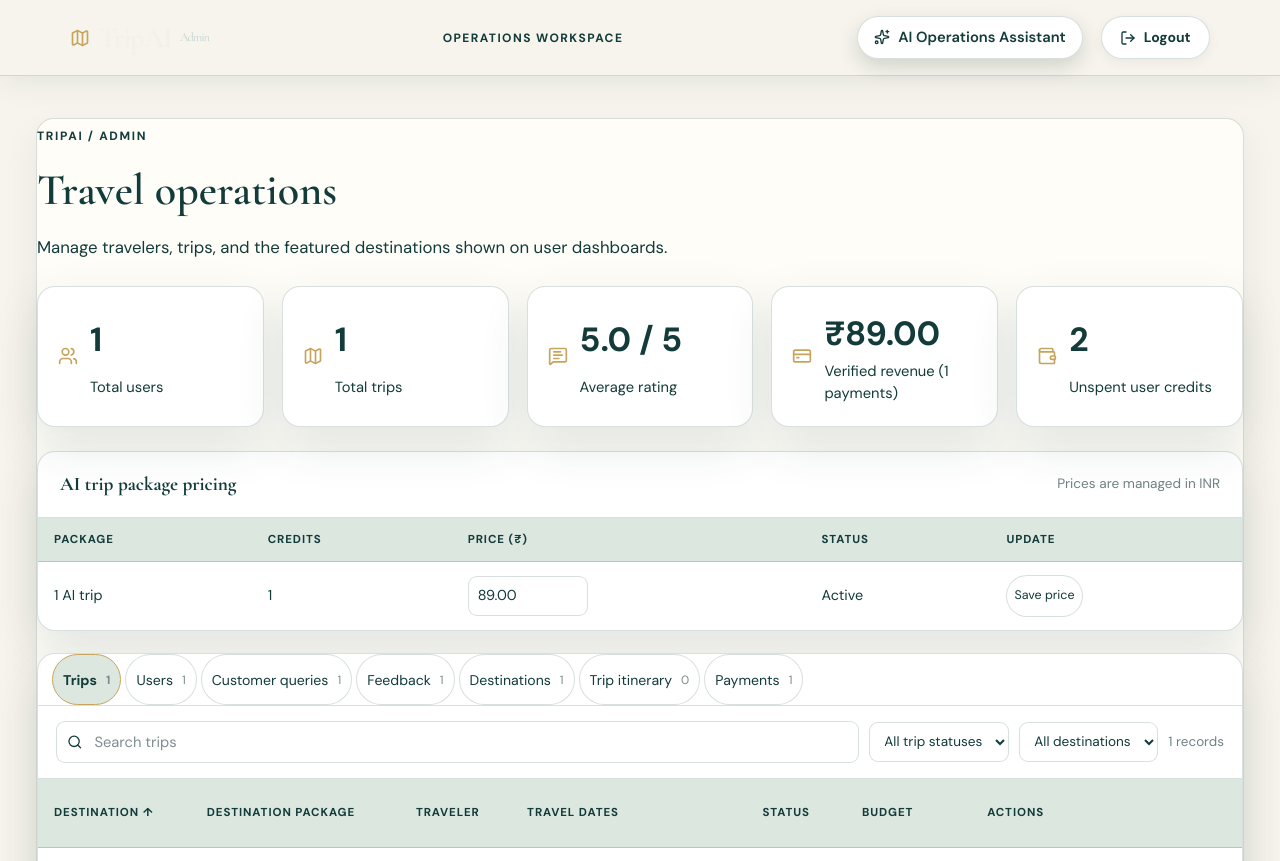
Scenario: renders admin collections dashboard with stats and views
The width and height of the screenshot is (1280, 861).
Check: the heading "Travel operations" is shown, box [37,163,337,217]
Check: the text "Total users" is shown, box [90,377,163,397]
Click the button "Users 1".
click(161, 679)  # box [126,654,197,705]
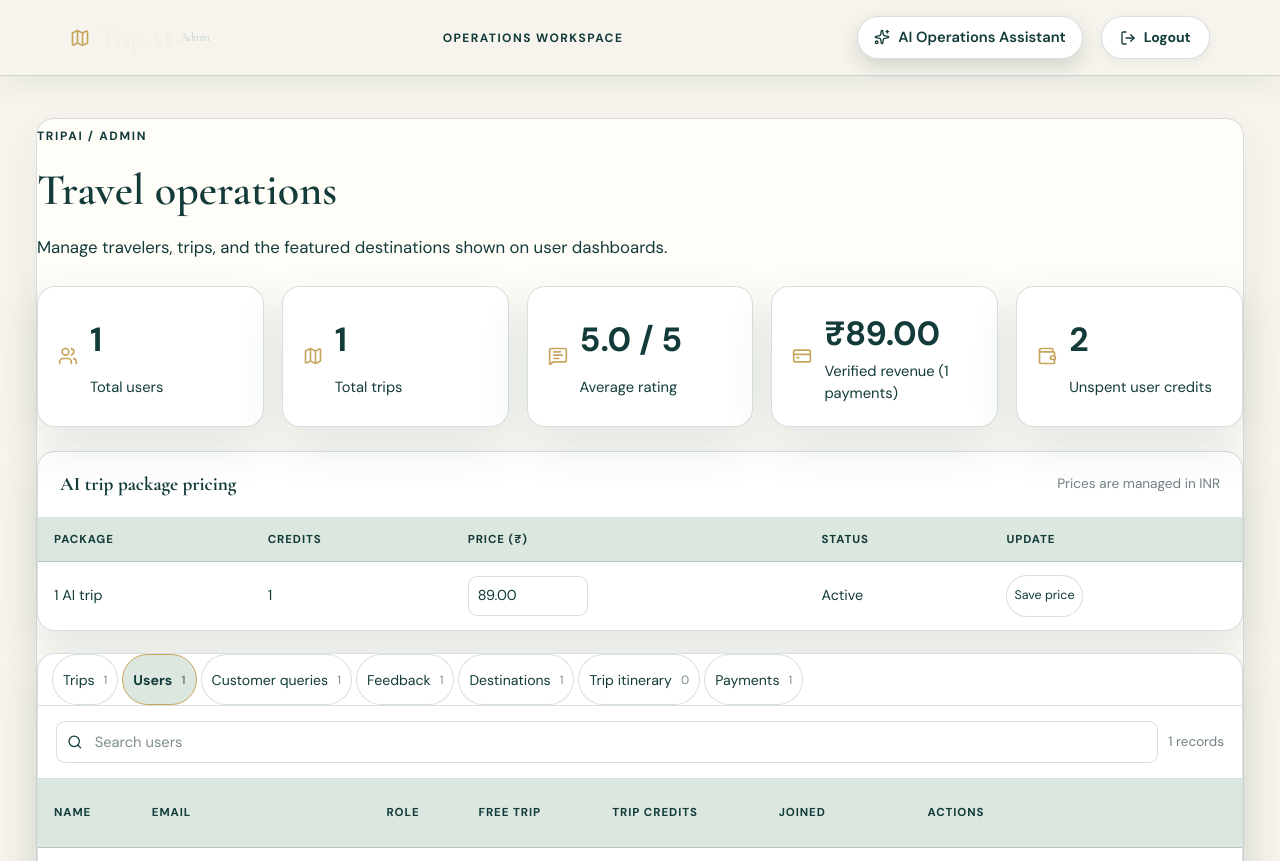
Check: the button "Trip credits" is shown, box [612,792,698,834]
Replace the text in the number field named "1 AI trip price in rupees" with "99" at (528, 596), box [468,576,588,616]
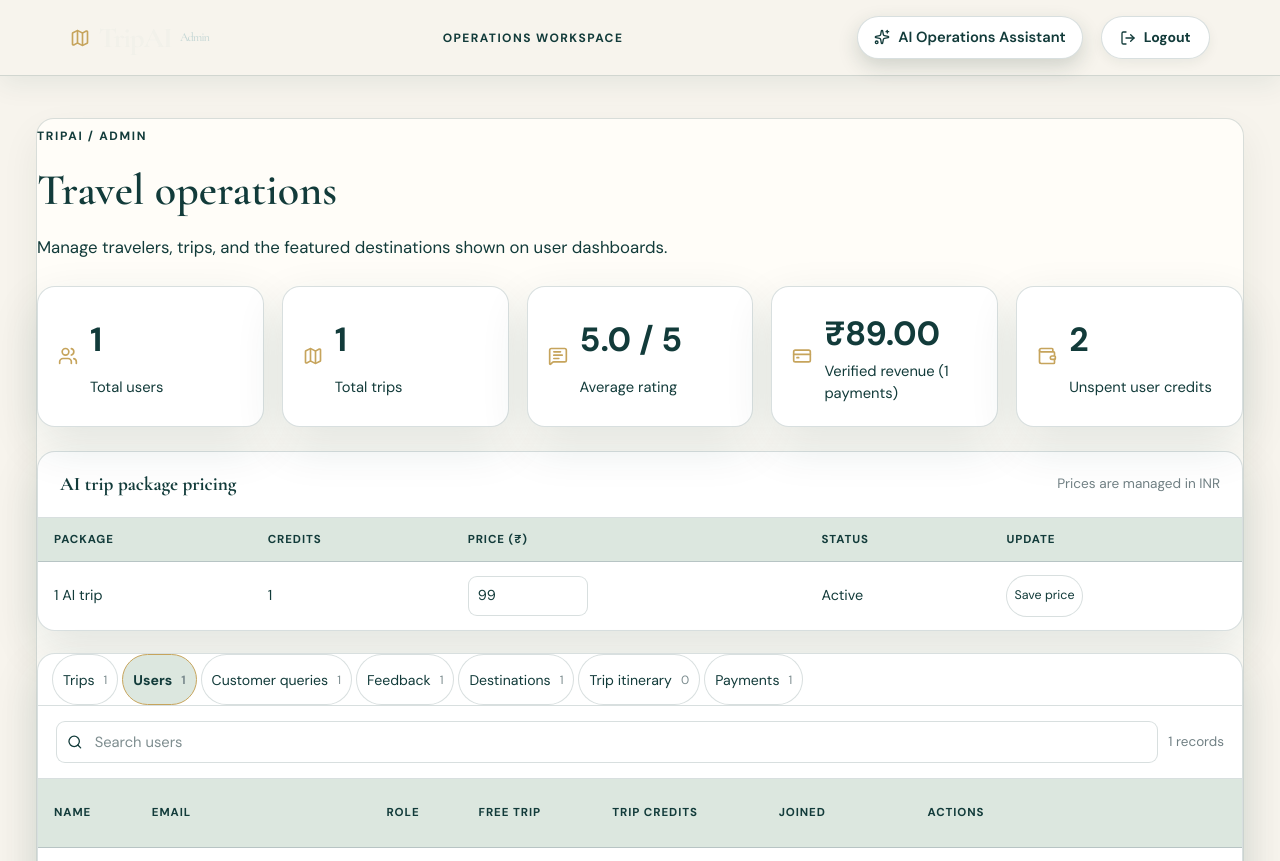
Click the button "Save price".
click(1045, 596)  # box [1006,575,1083,617]
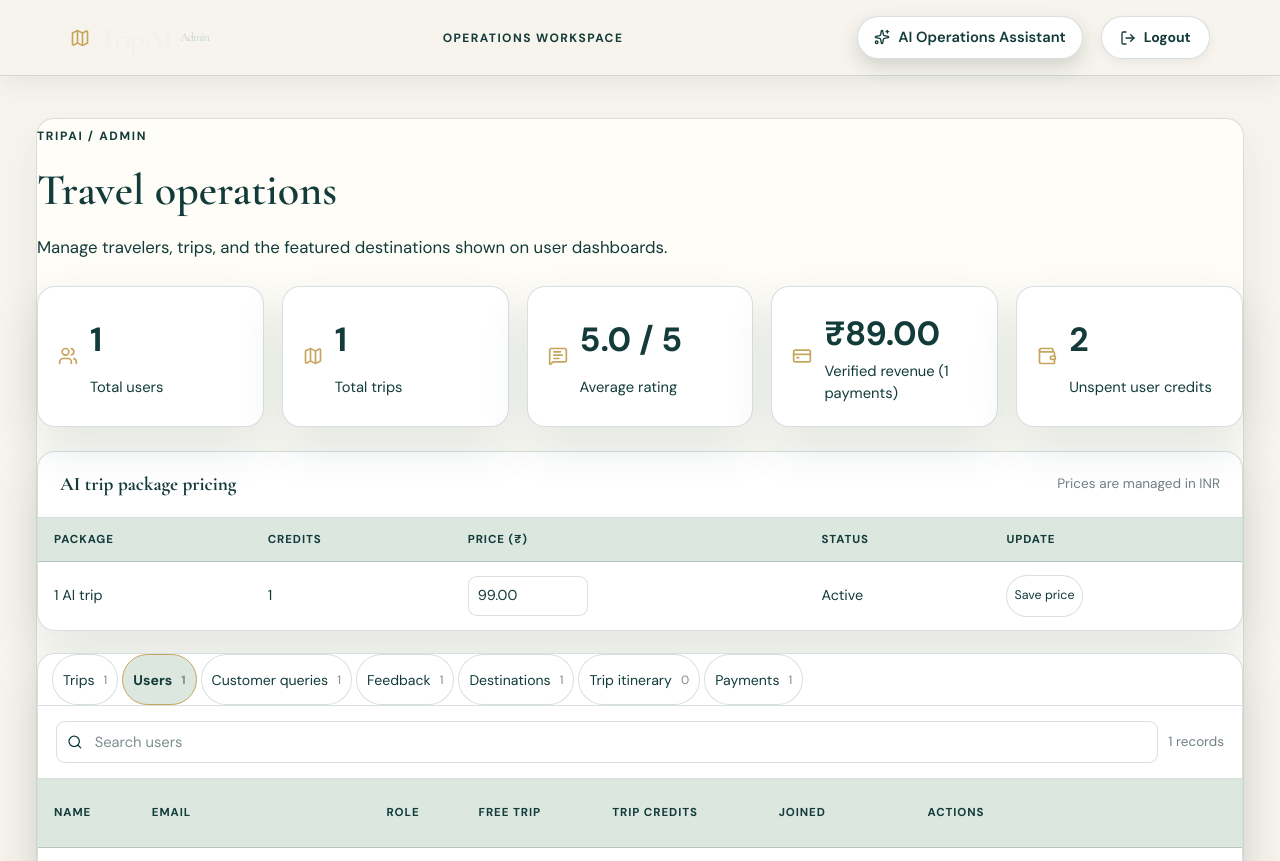
Click the button "Payments 1".
click(754, 679)  # box [704,654,803,705]
(page scrolled)
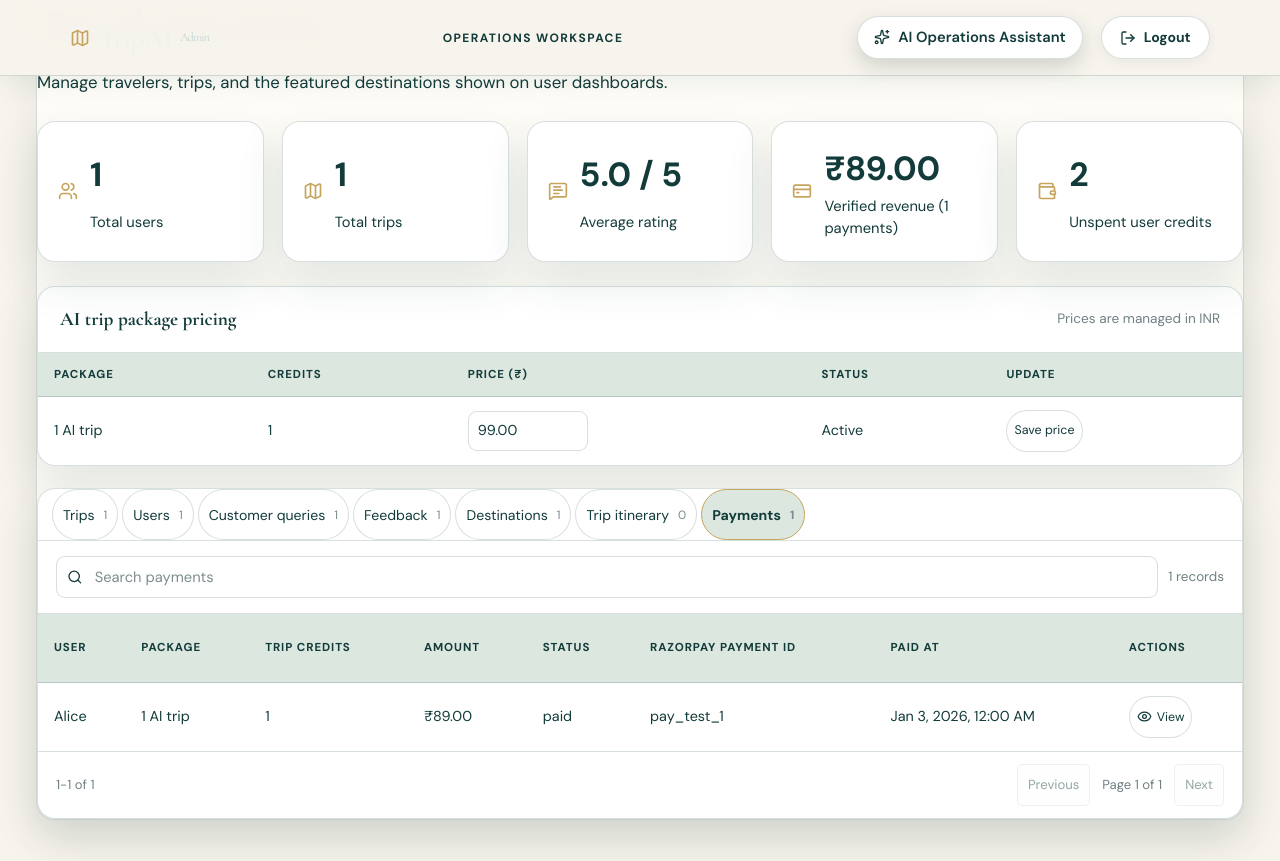
Check: the text "pay_test_1" is shown, box [634,682,874,751]
